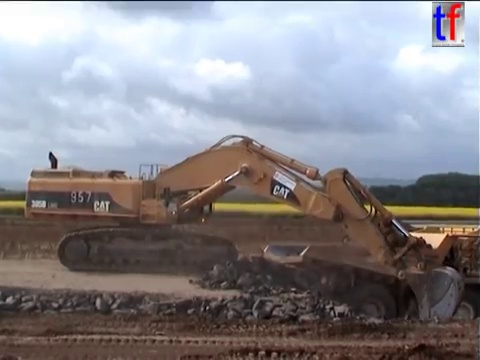excavator: (20, 131, 467, 335)
truck: (258, 221, 480, 336)
